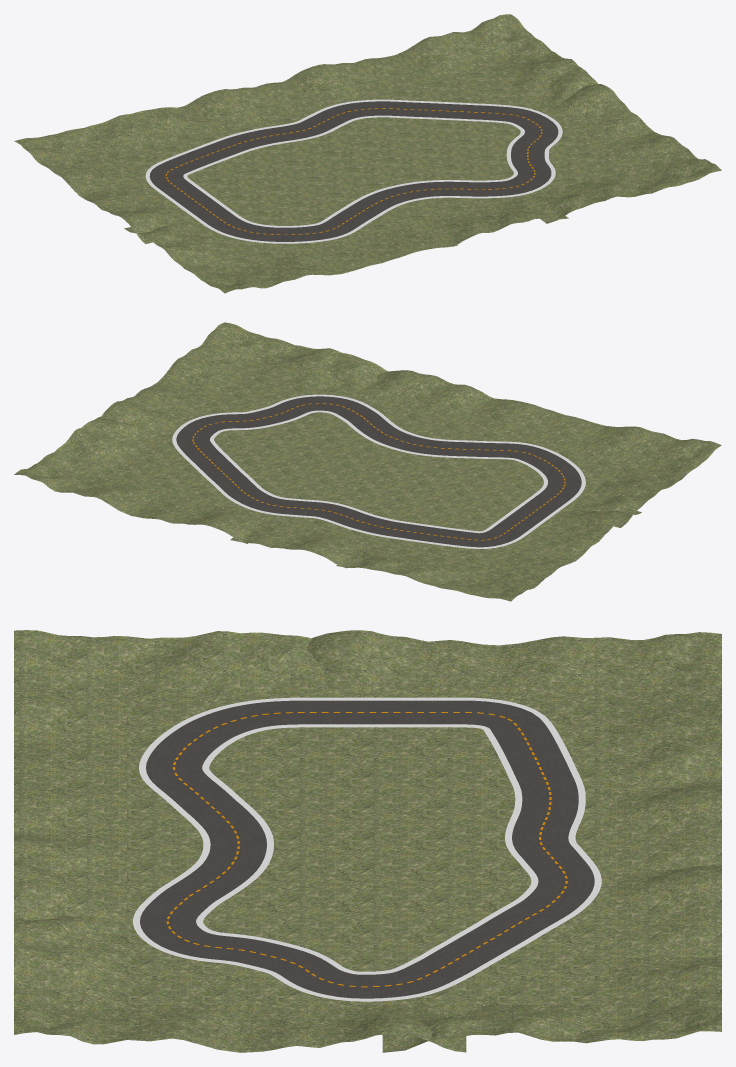
File: Virtual_May19_Train_track.dae
3 views of the same model, one above another, from view 1: azimuth 30°, elevation 25°; view 2: azimuth 150°, elevation 25°; view 3: azimuth 270°, elevation 25° (orthographic). The views are drawn at different scales.
Visible parts, largest first — view 1: bg_terrain, field, road, outerLine, innerLine, centerLine; view 2: bg_terrain, field, road, outerLine, innerLine, centerLine; view 3: bg_terrain, field, road, outerLine, innerLine, centerLine.
Part boxes in pixels (box(x1,y1,x2,y2)): bg_terrain: box(14, 14, 721, 293); field: box(106, 66, 629, 263); road: box(149, 101, 558, 241); outerLine: box(145, 99, 562, 243); innerLine: box(183, 115, 524, 227); centerLine: box(165, 108, 542, 234); bg_terrain: box(14, 322, 721, 601); field: box(106, 372, 629, 569); road: box(176, 396, 581, 547); outerLine: box(172, 394, 585, 548); innerLine: box(210, 410, 547, 533); centerLine: box(192, 403, 565, 540); bg_terrain: box(14, 630, 721, 1052); field: box(127, 693, 608, 1004); road: box(140, 700, 594, 998); outerLine: box(133, 697, 601, 1001); innerLine: box(196, 724, 538, 974); centerLine: box(166, 712, 567, 987).
Bounding box in the file's own units: 10.4 × 7.64 × 0.2962.
Materials: 6 (6 with a texture image).
